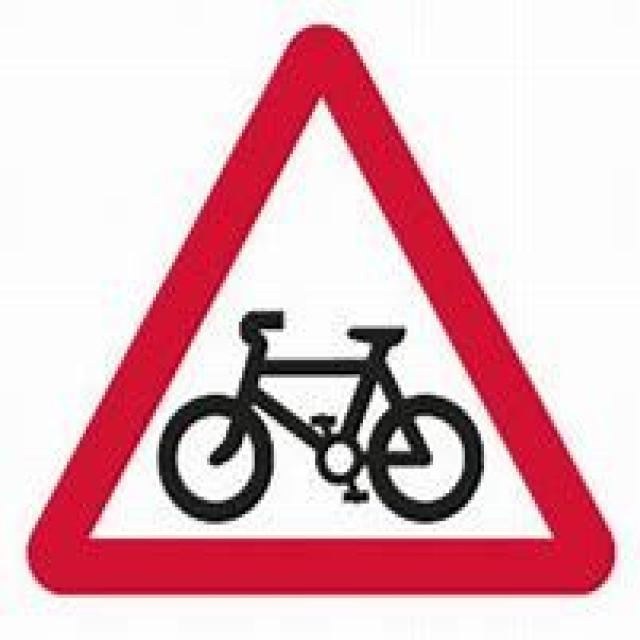cycle_crossing: (22, 18, 612, 598)
